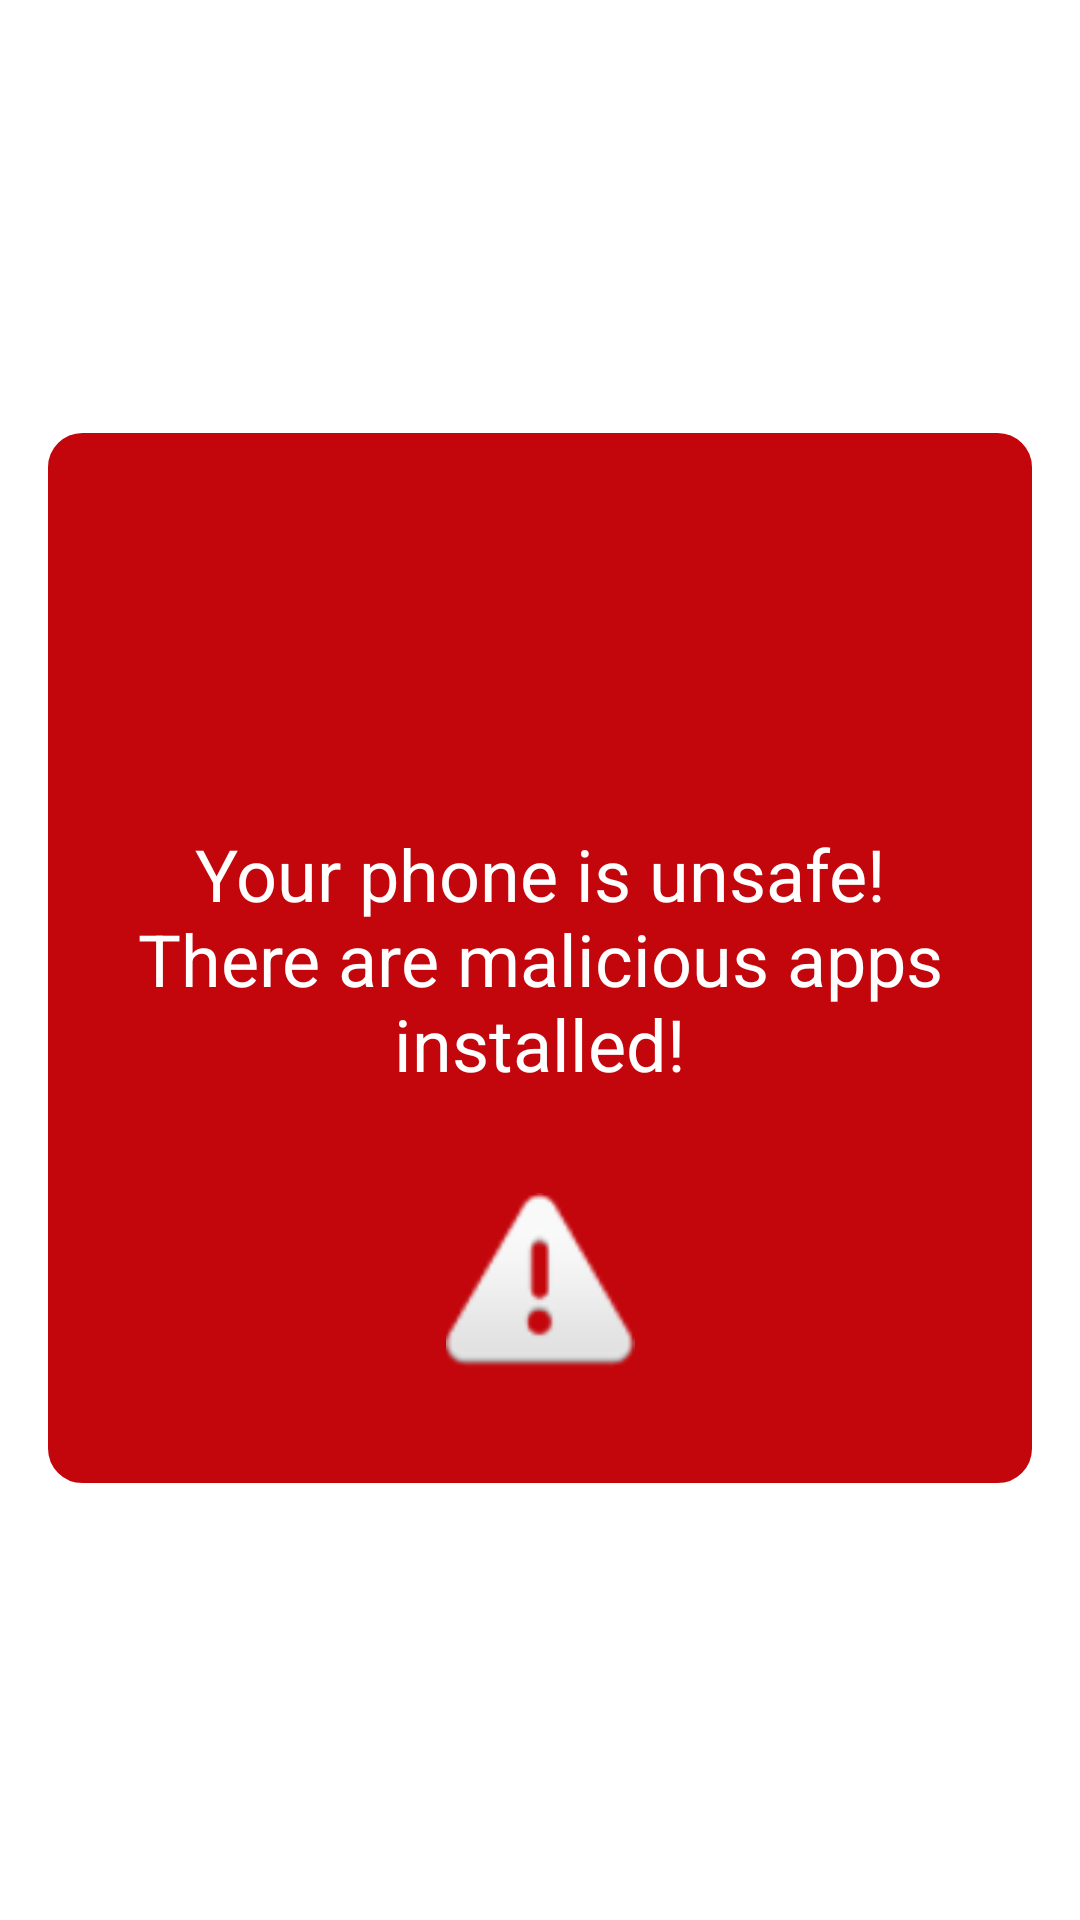

Point at icon controls on the screen. Image size 1080x1920, points as (x,y).
alert: (540,1279)
